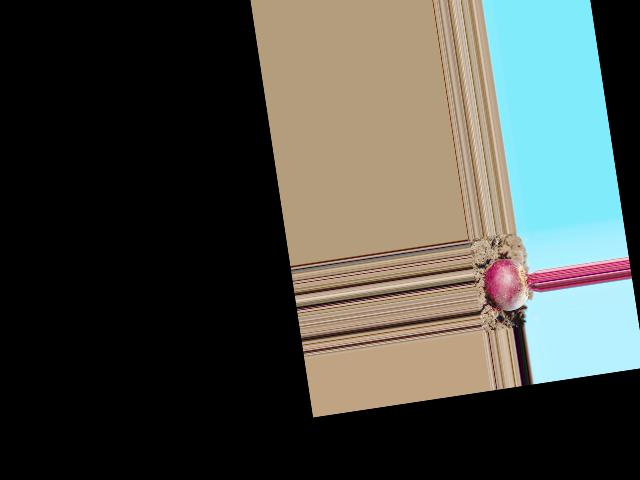beet: (480, 254, 542, 314)
